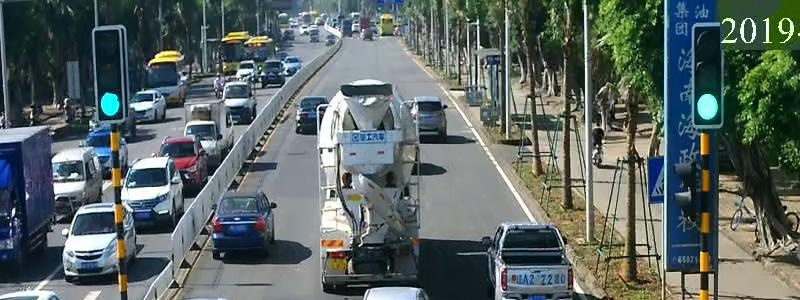green: (686, 88, 731, 131), (92, 83, 131, 125)
